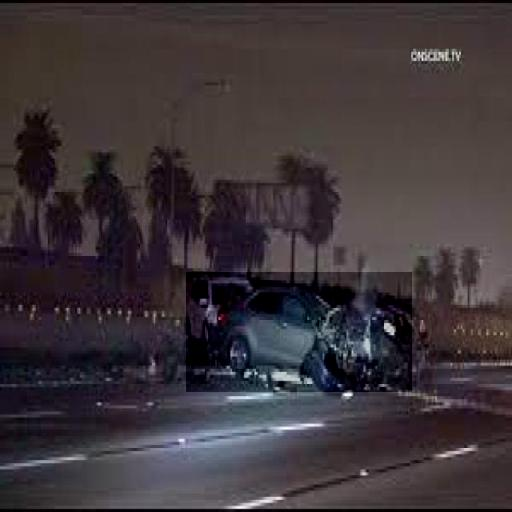小汽车撞小汽车: (186, 272, 412, 392)
